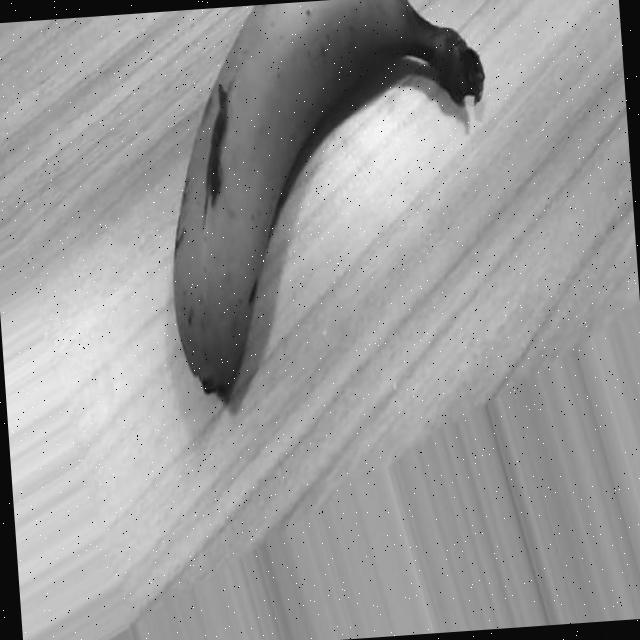Unripe: (150, 0, 507, 406)
